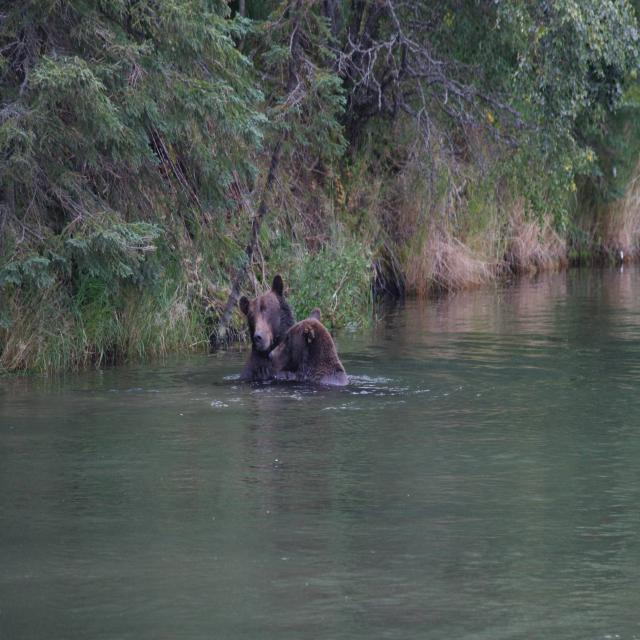bear face: (239, 271, 295, 381), (270, 307, 346, 376)
